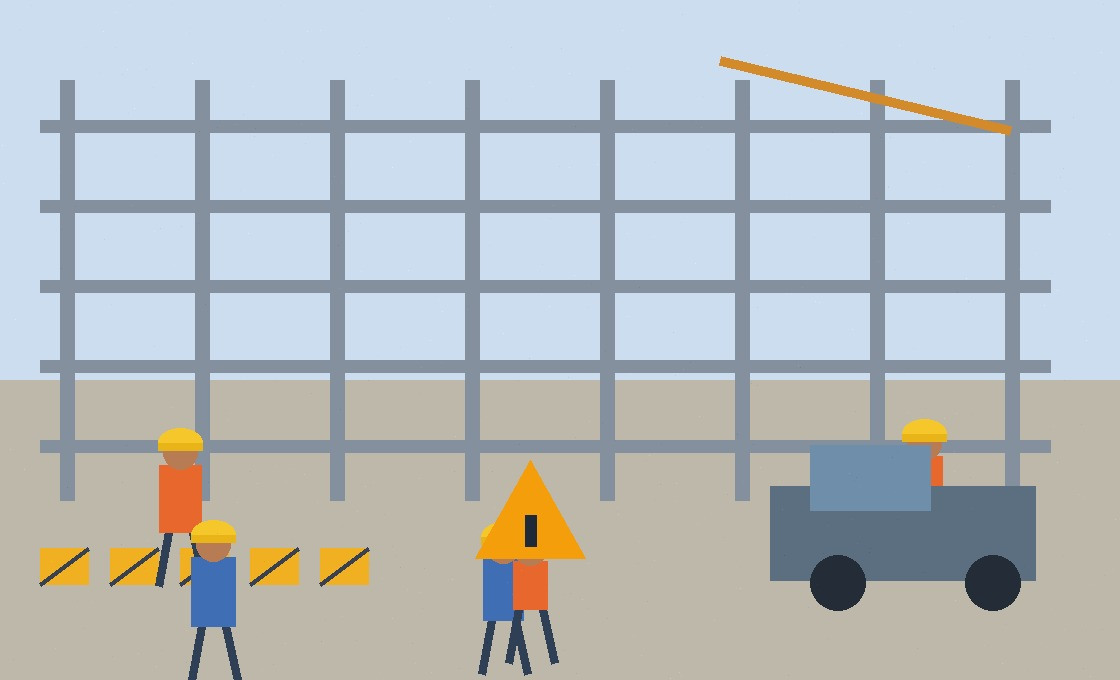helmet: (154, 350, 196, 384)
person: (139, 360, 201, 530)
vehicle: (770, 445, 1035, 595)
vest: (129, 395, 201, 483)
